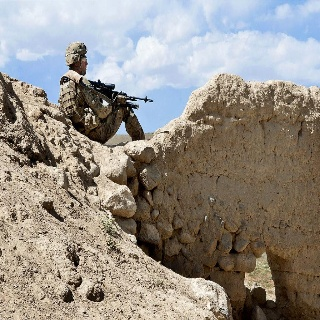rifle: (87, 77, 156, 112)
